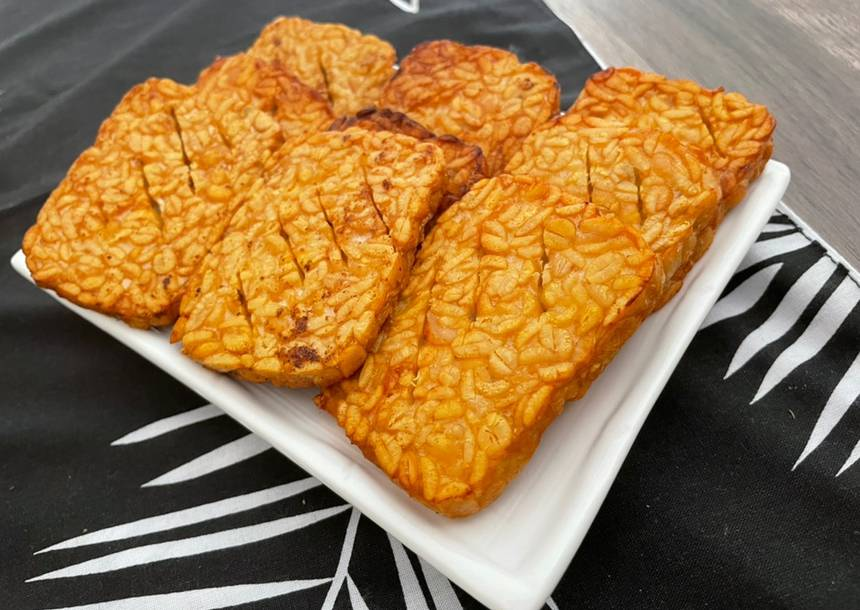Tempe: (337, 172, 647, 468), (203, 143, 419, 385), (33, 89, 253, 321)
